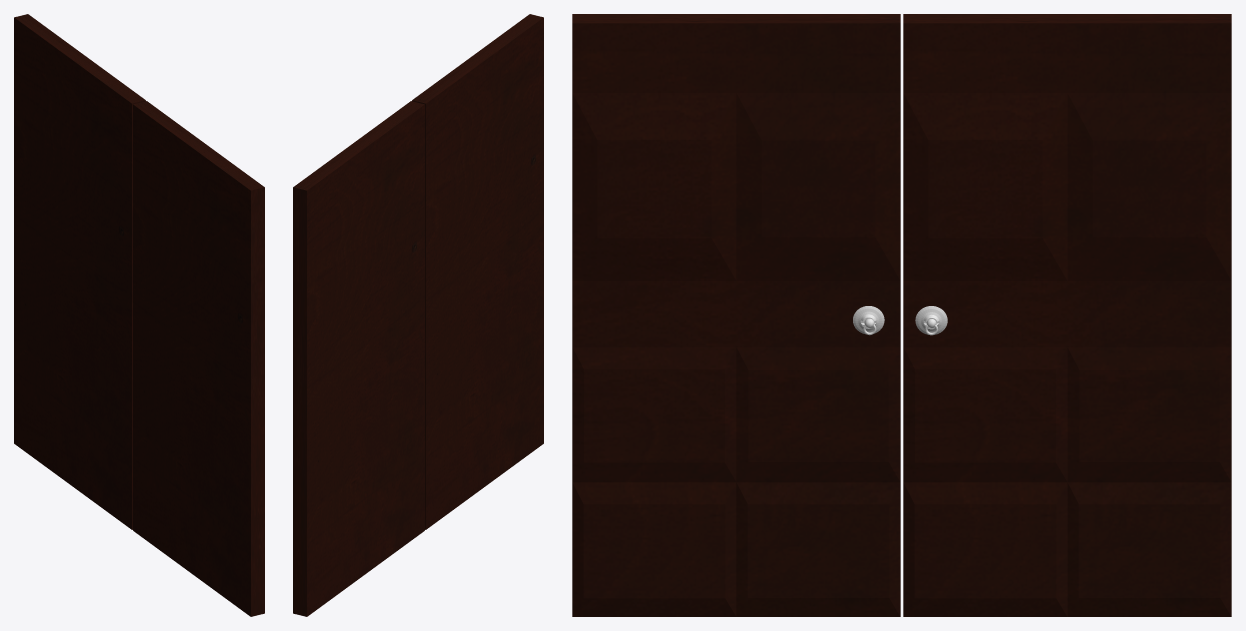
File: Doors.fbx
3 views of the same model, side by side, from view 1: azimuth 30°, elevation 25°; view 2: azimuth 150°, elevation 25°; view 3: azimuth 270°, elevation 25° (orthographic). The views are drawn at different scales.
Visible parts, largest first — view 1: Cube, Cube.002; view 2: Cube.002, Cube; view 3: Cube, Cube.002.
Part boxes in pixels (bbox=[...]): Cube: bbox=[133, 101, 264, 616]; Cube.002: bbox=[14, 14, 145, 529]; Cube.002: bbox=[293, 101, 424, 616]; Cube: bbox=[412, 14, 543, 529]; Cube: bbox=[572, 14, 900, 616]; Cube.002: bbox=[903, 14, 1231, 616].
Bounding box in the file's own units: 41.13 × 777 × 782.
